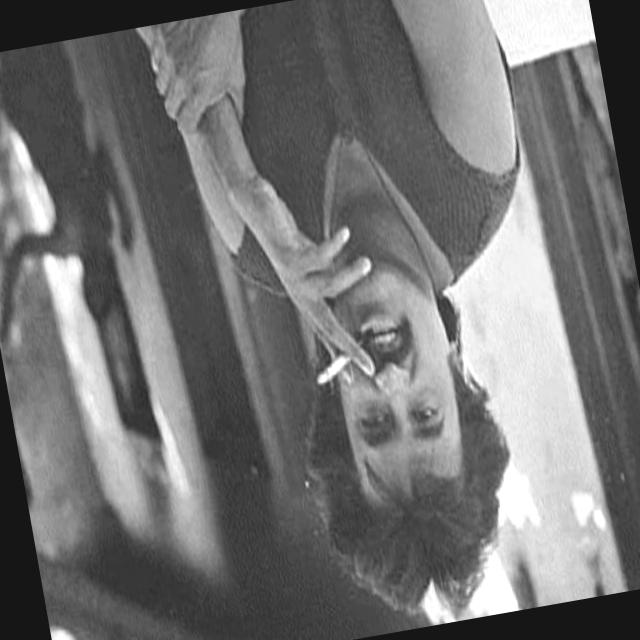cigarette: (296, 320, 376, 402)
